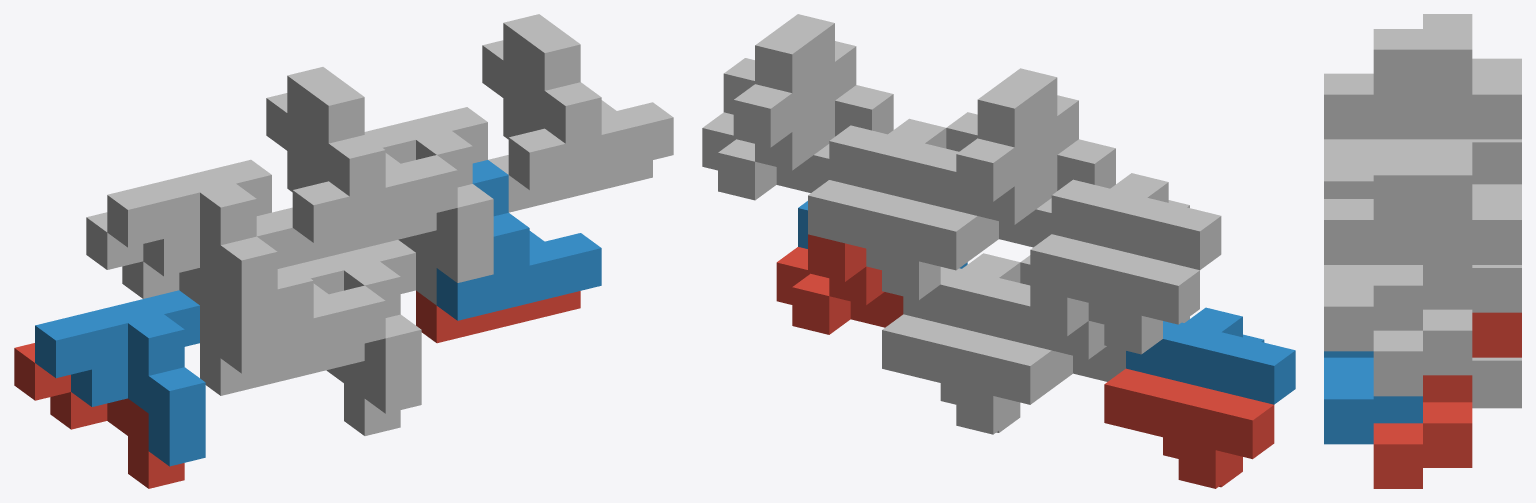
File: tiling.obj
3 renders of one model, left to right at view 1: azimuth 30°, elevation 25°; view 2: azimuth 150°, elevation 25°; view 3: azimuth 270°, elevation 25°, orthographic. The views are drawn at different scales.
Visible parts, largest first — view 1: copy_1_domain_4, copy_1_domain_2, copy_2_domain_8, copy_2_domain_4, copy_2_domain_6, copy_2_domain_2, copy_1_domain_8, copy_1_domain_6, copy_1_domain_1, copy_2_domain_7, copy_2_domain_3, copy_1_domain_3 (+4 smaller); view 2: copy_1_domain_1, copy_1_domain_5, copy_1_domain_3, copy_1_domain_7, copy_2_domain_7, copy_1_domain_4, copy_2_domain_8, copy_2_domain_4, copy_1_domain_2, copy_1_domain_8, copy_2_domain_5, copy_2_domain_3 (+2 smaller); view 3: copy_2_domain_8, copy_2_domain_4, copy_2_domain_7, copy_2_domain_5, copy_2_domain_6, copy_2_domain_3, copy_1_domain_7, copy_1_domain_3, copy_1_domain_5, copy_1_domain_8, copy_1_domain_4.
Boxes of the visible parts, left/top/right/bottom form: copy_1_domain_4: left=107, top=159, right=277, bottom=335; copy_1_domain_2: left=35, top=290, right=205, bottom=466; copy_2_domain_8: left=503, top=14, right=673, bottom=190; copy_2_domain_4: left=287, top=67, right=457, bottom=242; copy_2_domain_6: left=436, top=160, right=601, bottom=320; copy_2_domain_2: left=220, top=212, right=385, bottom=373; copy_1_domain_8: left=364, top=107, right=493, bottom=282; copy_1_domain_6: left=293, top=240, right=421, bottom=413; copy_1_domain_1: left=14, top=343, right=184, bottom=488; copy_2_domain_7: left=482, top=40, right=652, bottom=212; copy_2_domain_3: left=266, top=93, right=436, bottom=265; copy_1_domain_3: left=86, top=212, right=220, bottom=357; copy_1_domain_1: left=1104, top=368, right=1274, bottom=488; copy_1_domain_5: left=882, top=314, right=1051, bottom=434; copy_1_domain_3: left=1030, top=234, right=1199, bottom=354; copy_1_domain_7: left=808, top=180, right=977, bottom=299; copy_2_domain_7: left=702, top=78, right=834, bottom=200; copy_1_domain_4: left=1051, top=173, right=1221, bottom=269; copy_2_domain_8: left=723, top=14, right=893, bottom=136; copy_2_domain_4: left=946, top=68, right=1115, bottom=190; copy_1_domain_2: left=1126, top=307, right=1295, bottom=404; copy_1_domain_8: left=829, top=118, right=977, bottom=215; copy_2_domain_5: left=776, top=234, right=903, bottom=334; copy_2_domain_3: left=956, top=132, right=1057, bottom=254; copy_2_domain_8: left=1324, top=154, right=1472, bottom=351; copy_2_domain_4: left=1324, top=29, right=1472, bottom=198; copy_2_domain_7: left=1373, top=199, right=1521, bottom=396; copy_2_domain_5: left=1373, top=312, right=1521, bottom=488; copy_2_domain_6: left=1324, top=351, right=1422, bottom=444; copy_2_domain_3: left=1423, top=73, right=1521, bottom=139; copy_1_domain_7: left=1472, top=184, right=1521, bottom=312; copy_1_domain_3: left=1472, top=58, right=1521, bottom=184; copy_1_domain_5: left=1472, top=357, right=1521, bottom=408; copy_1_domain_8: left=1423, top=139, right=1472, bottom=154; copy_1_domain_4: left=1423, top=14, right=1472, bottom=28.
Size of the model in its own units: 16 by 9 by 4.
